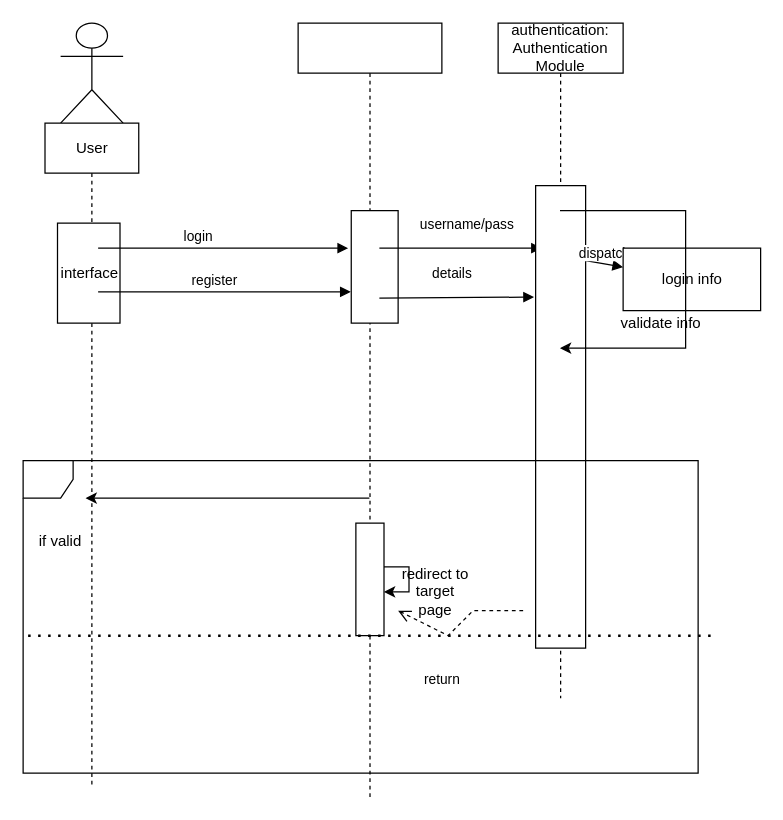
The diagram is 783 pixels wide and 820 high, and some of its shapes have lost their labels. The box of each missing label's shape, as (x1, y1, x2, y2) in pixels:
loging button /register button: (297, 22, 442, 798)
popup: (350, 209, 398, 323)
